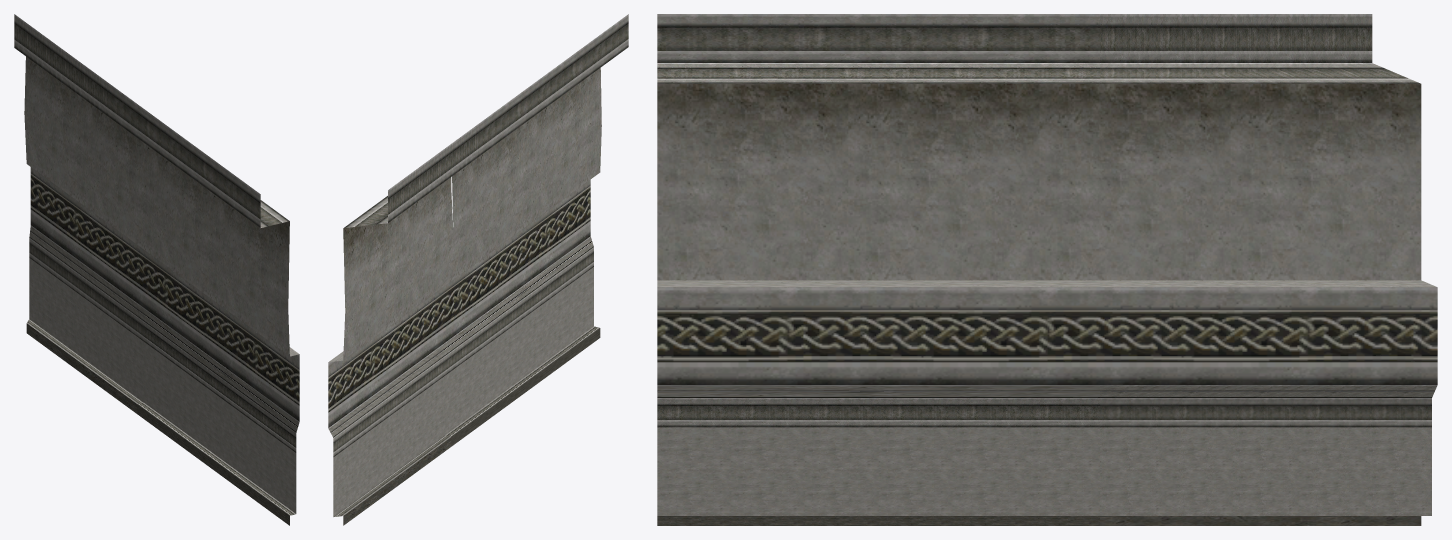
The model's file is DWARF_PALACE_ARKENSTONE_ROOM_BACKWALLB.fbx.
3 renders of one model, left to right at view 1: azimuth 30°, elevation 25°; view 2: azimuth 150°, elevation 25°; view 3: azimuth 270°, elevation 25°, orthographic. The views are drawn at different scales.
Parts seen in each view (by area): view 1: DWARF_PALACE_ARKENSTONE_ROOM_BACKWALLB; view 2: DWARF_PALACE_ARKENSTONE_ROOM_BACKWALLB; view 3: DWARF_PALACE_ARKENSTONE_ROOM_BACKWALLB.
Boxes of the visible parts, left/top/right/bottom form: DWARF_PALACE_ARKENSTONE_ROOM_BACKWALLB: left=14, top=14, right=299, bottom=525; DWARF_PALACE_ARKENSTONE_ROOM_BACKWALLB: left=328, top=14, right=628, bottom=525; DWARF_PALACE_ARKENSTONE_ROOM_BACKWALLB: left=657, top=14, right=1437, bottom=525.
Bounding box in the file's own units: 12004 × 100000 × 143867.
Materials: 6 (6 with a texture image).
